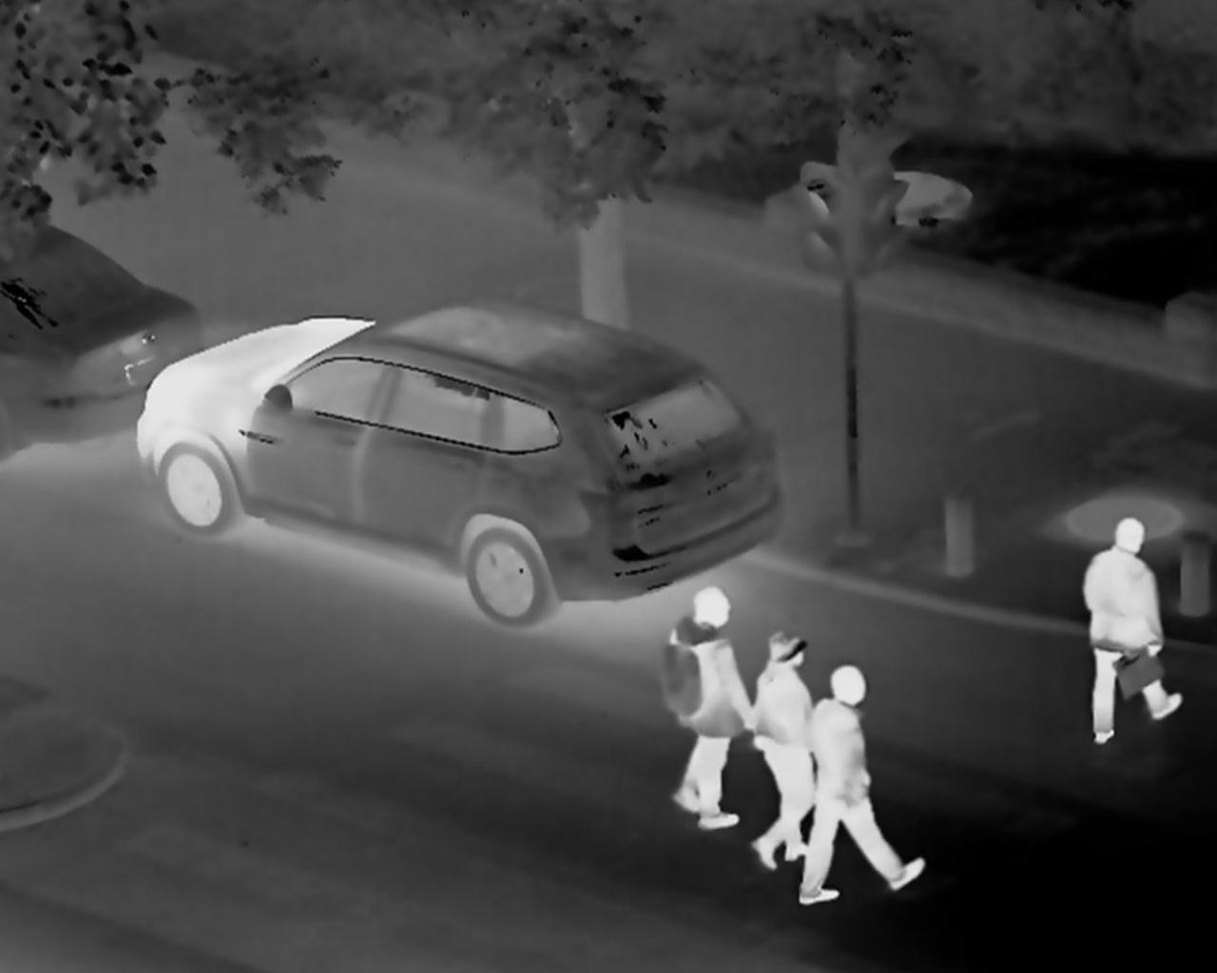person: (809, 645, 930, 906), (1103, 512, 1185, 760), (667, 578, 746, 831), (749, 615, 803, 855)
